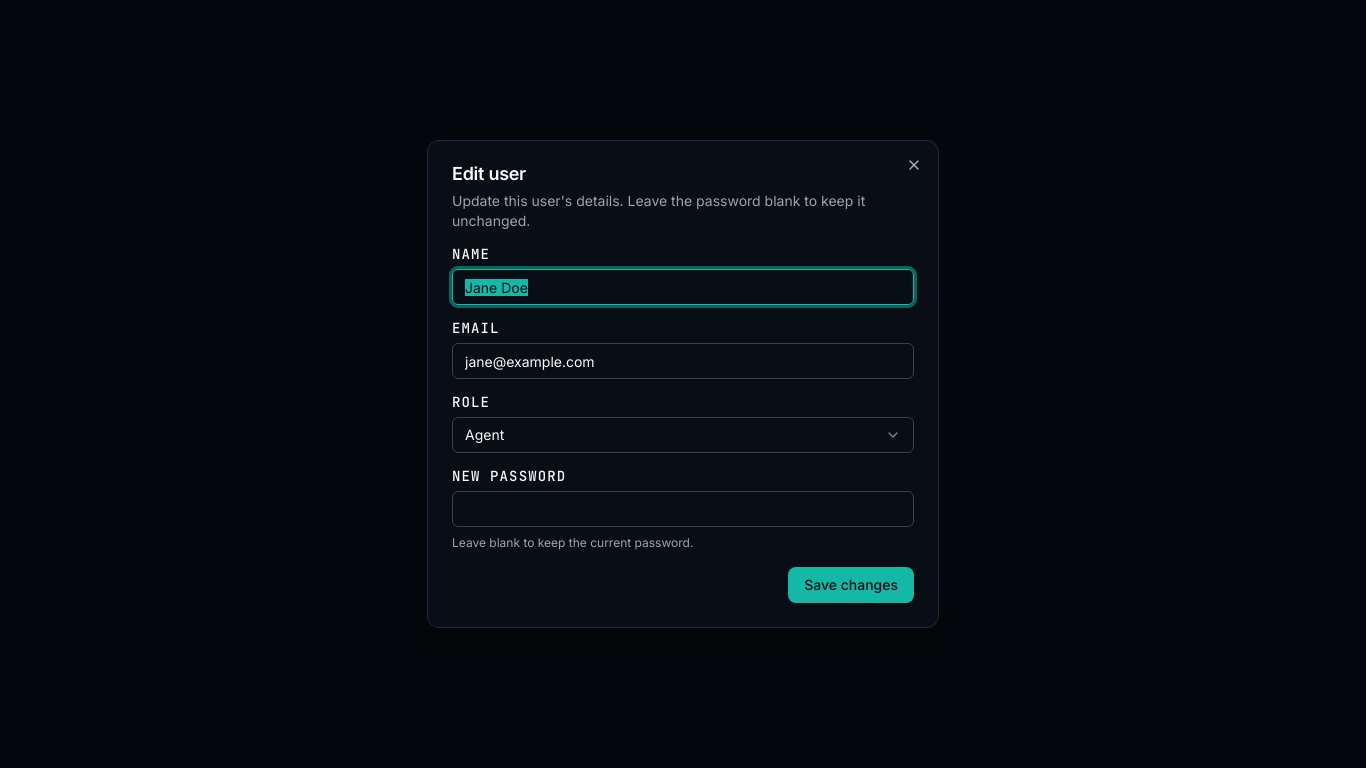
Test: UserFormDialog — edit mode › rejects a too-short new password and does not submit
Step 1. Type "short" into the password field labelled "New password" → (683, 509), box [452,491,914,527]
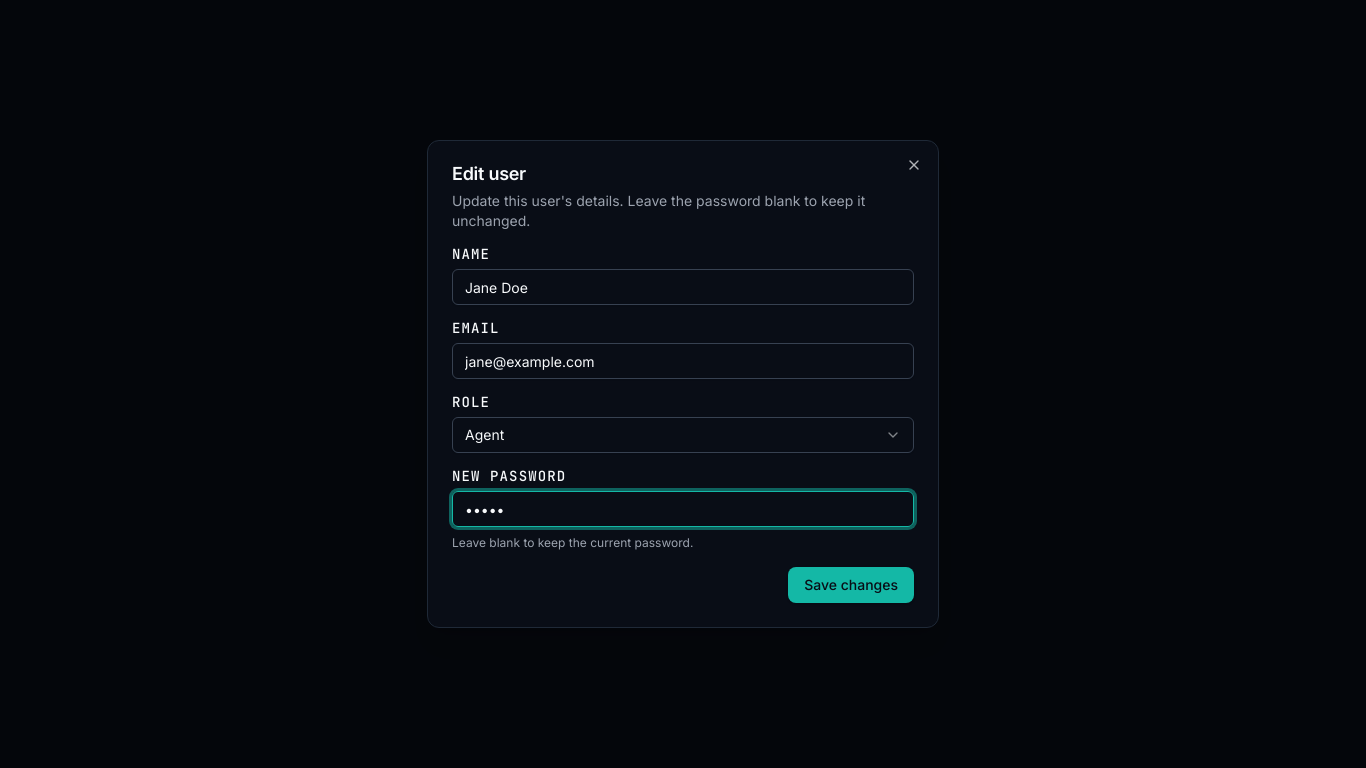
Step 2. Click the button "Save changes" → (851, 585), box [788,567,914,603]
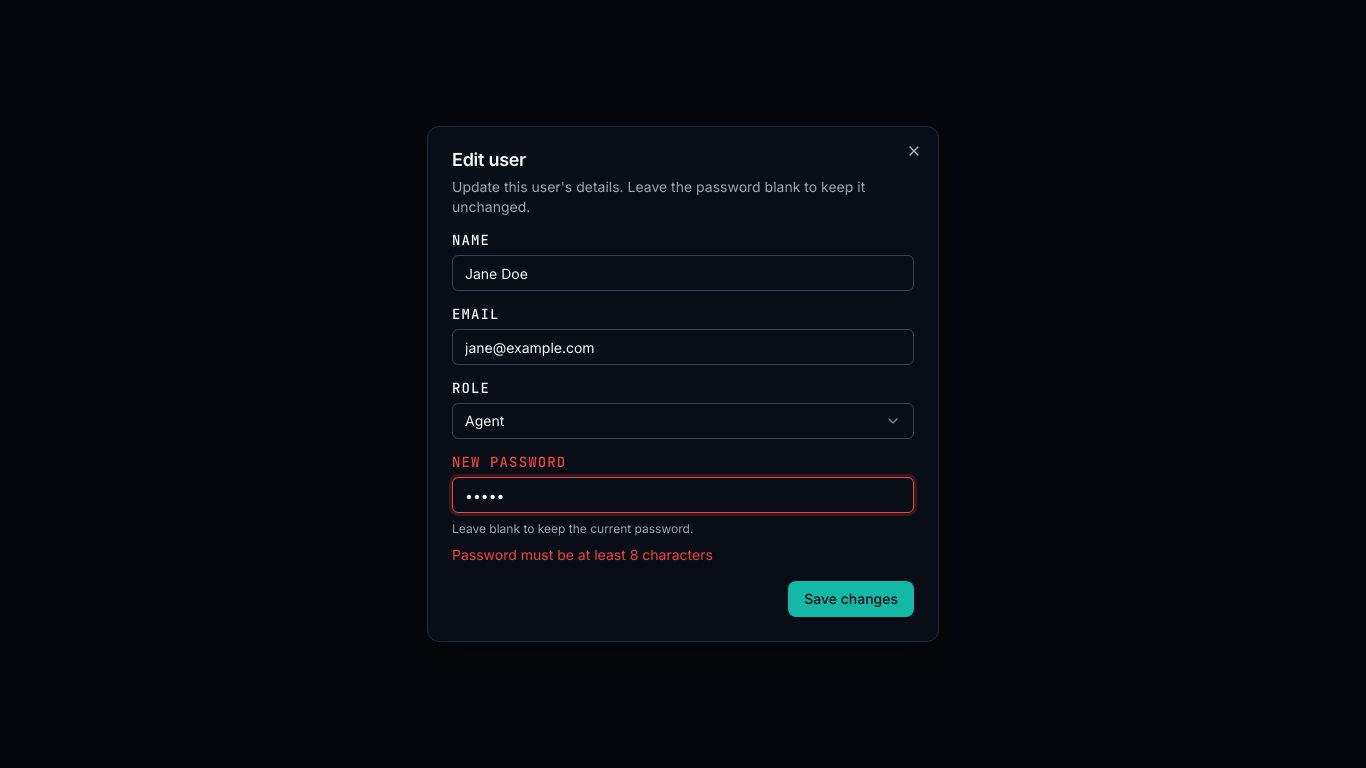
Expected: the text "Password must be at least 8 characters" is shown, [452,546,713,563]
